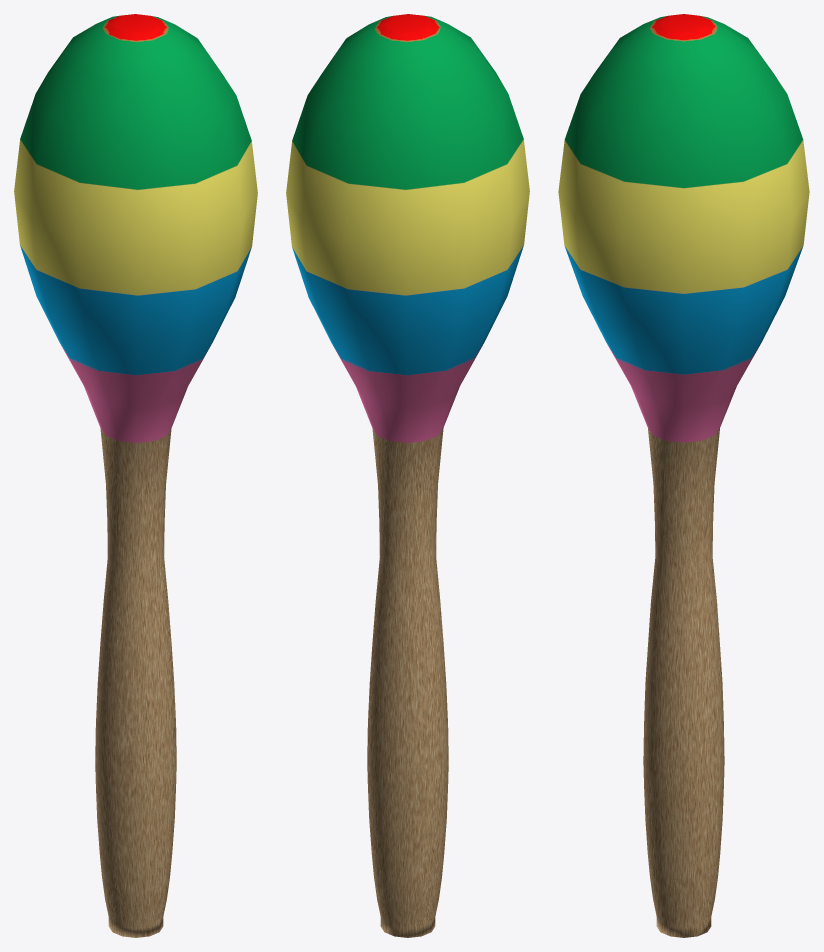
Rendered from Maracas.fbx.
3 renders of one model, left to right at view 1: azimuth 30°, elevation 25°; view 2: azimuth 150°, elevation 25°; view 3: azimuth 270°, elevation 25°, orthographic.
Parts seen in each view (by area): view 1: pCylinder1; view 2: pCylinder1; view 3: pCylinder1.
Part boxes in pixels (x1,y1,x2,y2): pCylinder1: (14, 14, 257, 937); pCylinder1: (286, 14, 529, 937); pCylinder1: (558, 14, 809, 937).
Bounding box in the file's own units: 0.0356 × 0.1468 × 0.037.
1 material, 1 textured.
